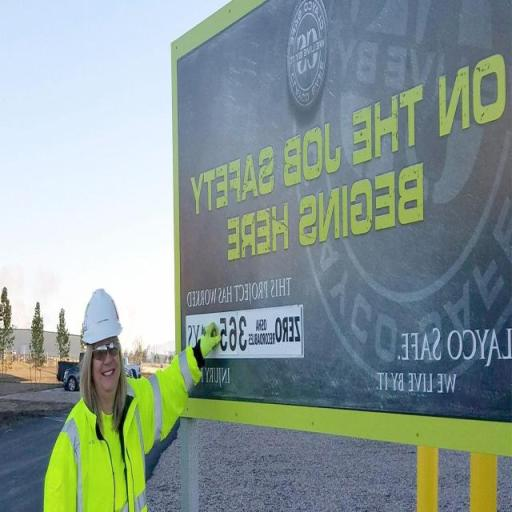helmet: (78, 286, 123, 348)
vest: (40, 350, 203, 512)
